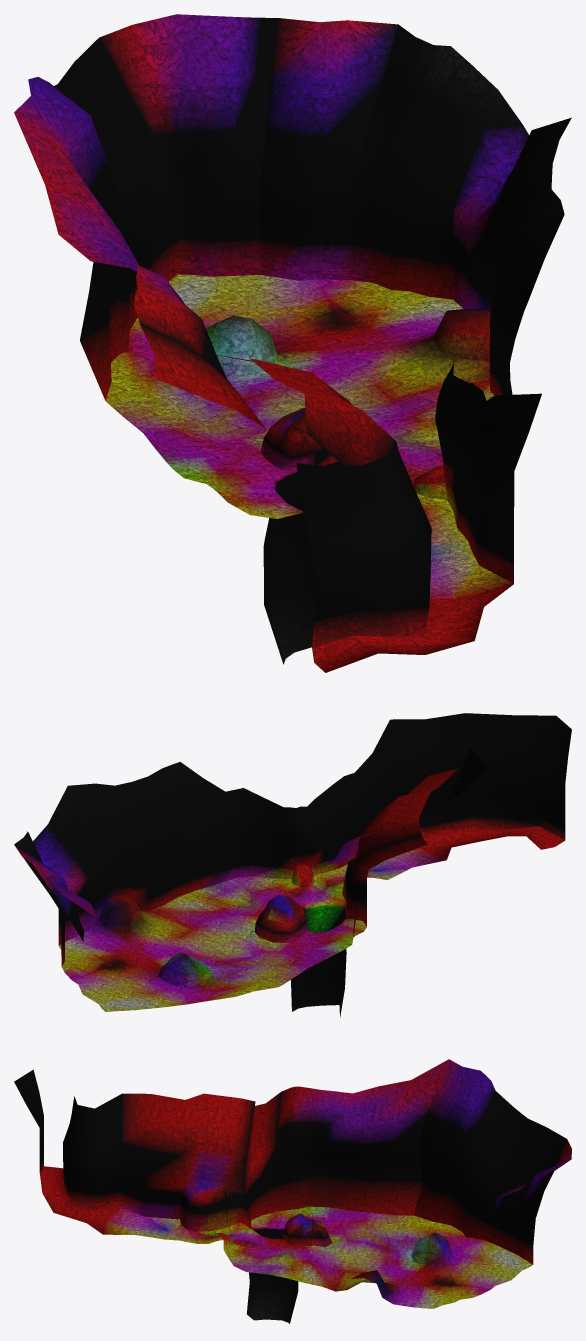
File: Level02Remeshed.glb
3 views of the same model, one above another, from view 1: azimuth 30°, elevation 25°; view 2: azimuth 150°, elevation 25°; view 3: azimuth 270°, elevation 25° (orthographic). The views are drawn at different scales.
Visible parts, largest first — view 1: Level2Remeshed; view 2: Level2Remeshed; view 3: Level2Remeshed.
Part boxes in pixels (bbox=[...]): Level2Remeshed: bbox=[14, 14, 571, 672]; Level2Remeshed: bbox=[14, 713, 571, 1017]; Level2Remeshed: bbox=[14, 1059, 571, 1323].
Size of the model in its own units: 87.69 by 65.8 by 142.
Materials: 1 (1 with a texture image).
